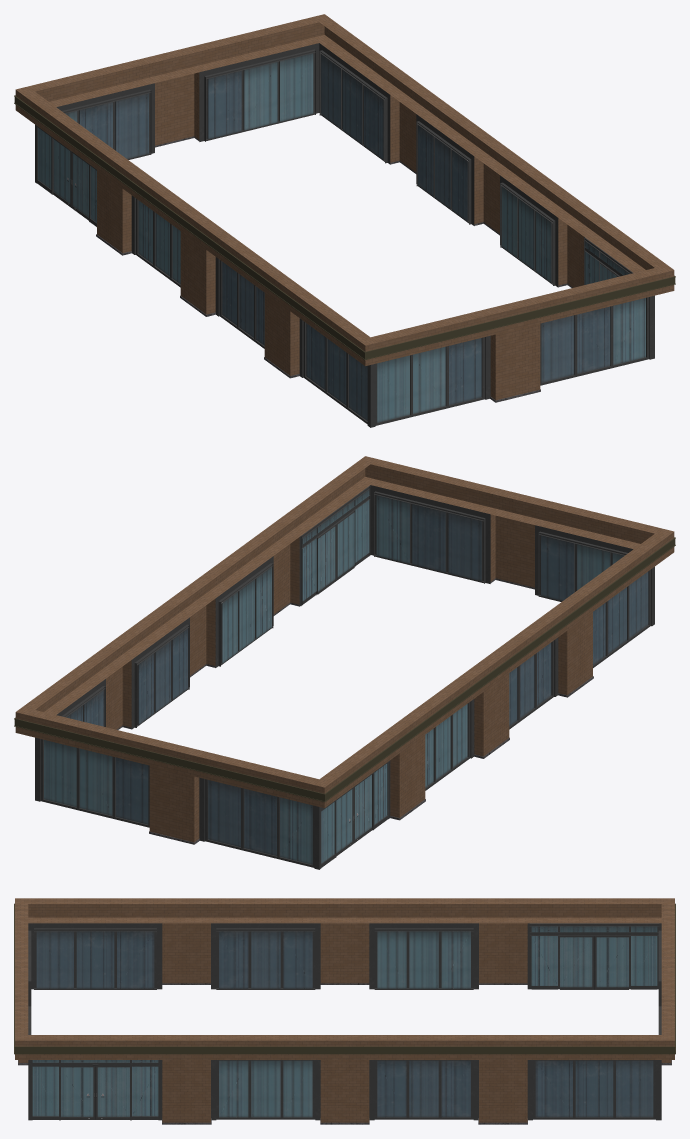
Rendered from jctBld24_12D_btm.fbx.
The picture shows the model from 3 angles, top to bottom: view 1: azimuth 30°, elevation 25°; view 2: azimuth 150°, elevation 25°; view 3: azimuth 270°, elevation 25°; orthographic projection. The views are drawn at different scales.
Visible parts, largest first — view 1: jctBld24_12D_btm_LOD0; view 2: jctBld24_12D_btm_LOD0; view 3: jctBld24_12D_btm_LOD0.
Boxes of the visible parts, <box> form: jctBld24_12D_btm_LOD0: <box>14,14,675,427</box>; jctBld24_12D_btm_LOD0: <box>14,456,675,869</box>; jctBld24_12D_btm_LOD0: <box>14,898,675,1124</box>.
Bounding box in the file's own units: 1258 × 350 × 2458.
